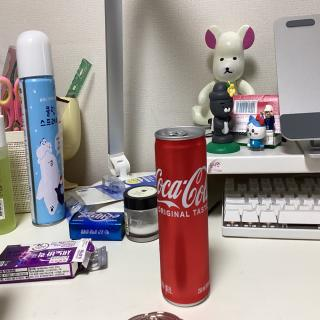cocacola: (152, 124, 216, 311)
